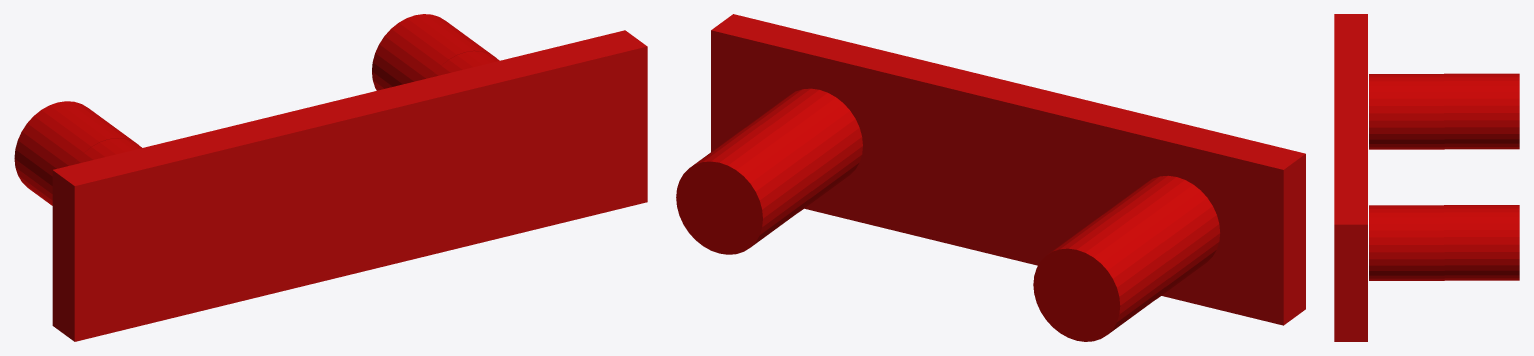
Rendered from bridge.obj.
3 views of the same model, side by side, from view 1: azimuth 30°, elevation 25°; view 2: azimuth 150°, elevation 25°; view 3: azimuth 270°, elevation 25° (orthographic). The views are drawn at different scales.
Parts seen in each view (by area): view 1: arch; view 2: arch; view 3: arch.
Part boxes in pixels (left/top/right/bottom): arch: left=14, top=14, right=647, bottom=341; arch: left=676, top=14, right=1305, bottom=341; arch: left=1334, top=14, right=1519, bottom=341.
Size of the model in its own units: 2.44 by 0.6347 by 0.9085.
